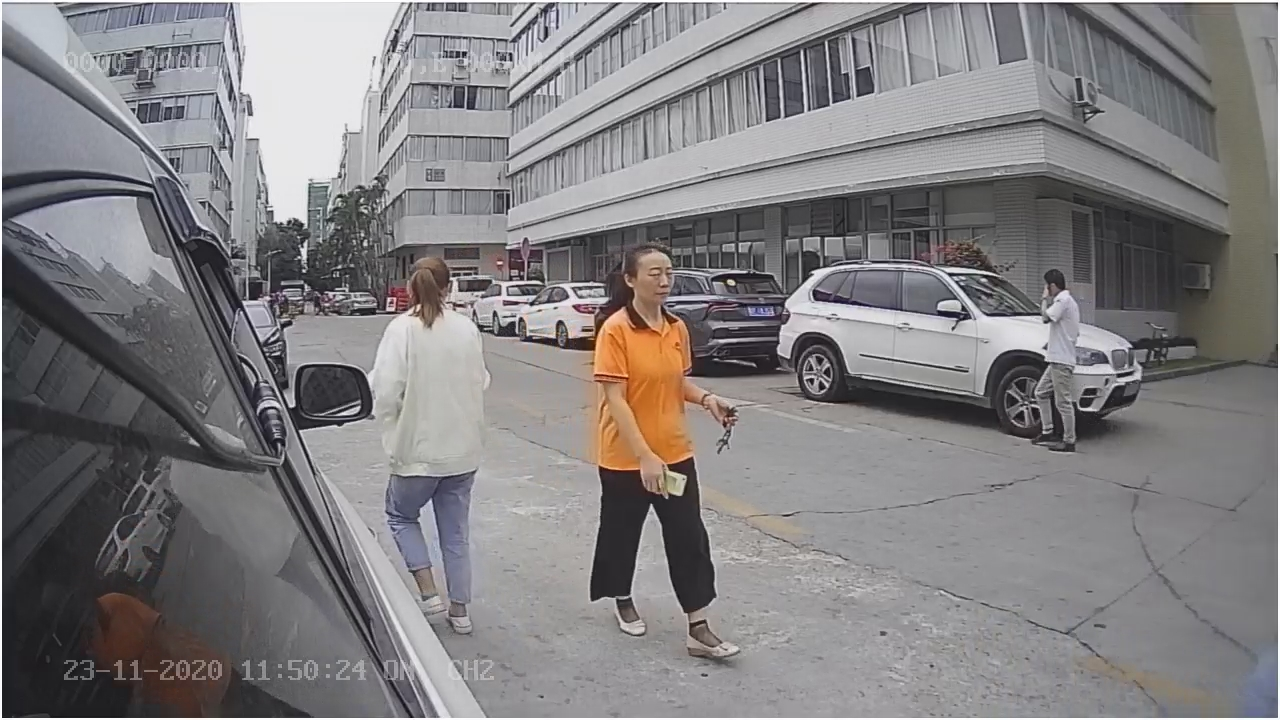person: (580, 235, 738, 663), (373, 237, 492, 443), (1023, 262, 1086, 458)
